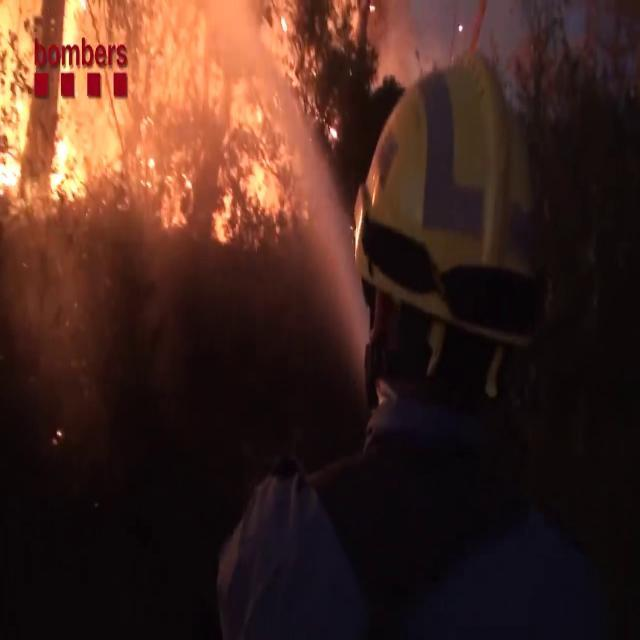Fire: (0, 0, 297, 244)
